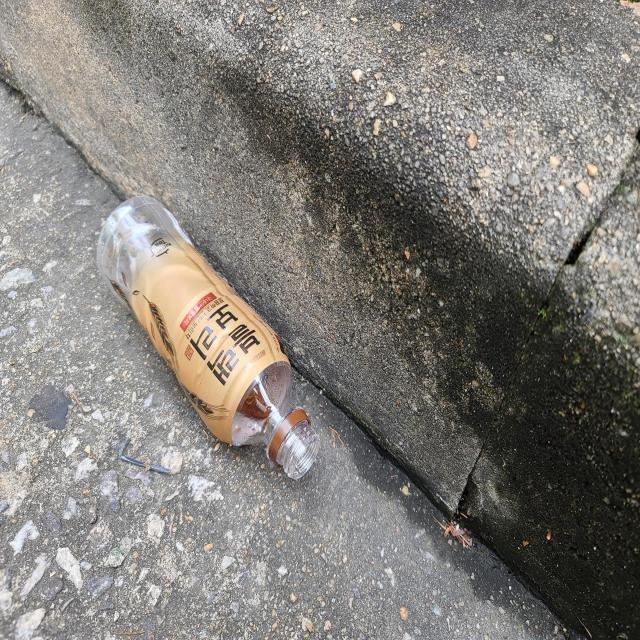plastic: (96, 196, 320, 479)
